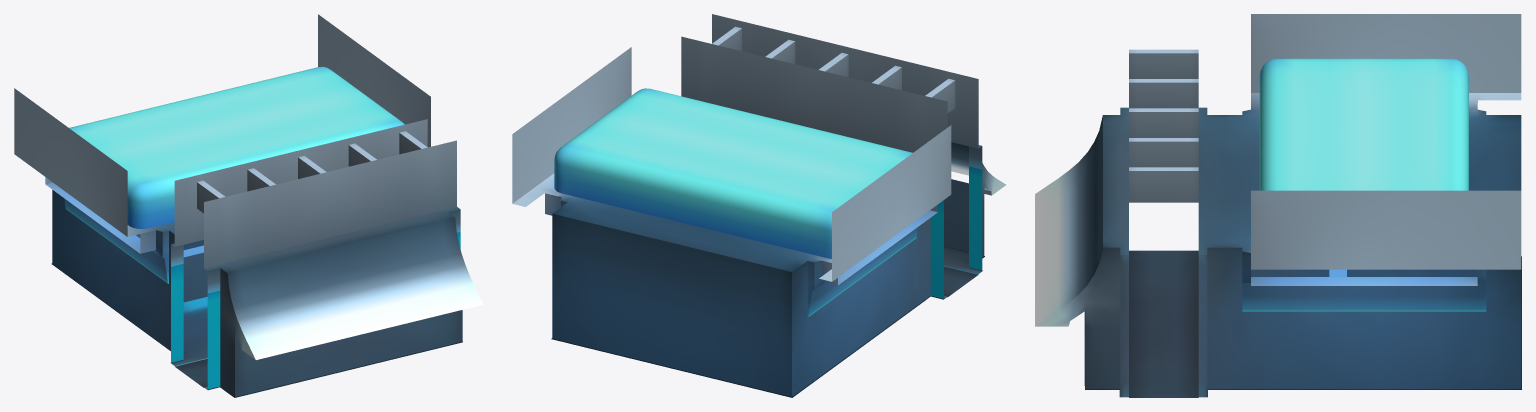
The model's file is M_Single_room.fbx.
The picture shows the model from 3 angles, left to right: view 1: azimuth 30°, elevation 25°; view 2: azimuth 150°, elevation 25°; view 3: azimuth 270°, elevation 25°; orthographic projection. The views are drawn at different scales.
Visible parts, largest first — view 1: Room.013; view 2: Room.013; view 3: Room.013.
Boxes of the visible parts, x1,y1,x2,y2 form: Room.013: (14, 14, 483, 397); Room.013: (512, 14, 1006, 397); Room.013: (1035, 14, 1521, 397).
Bounding box in the file's own units: 2400 × 1405 × 2793.
